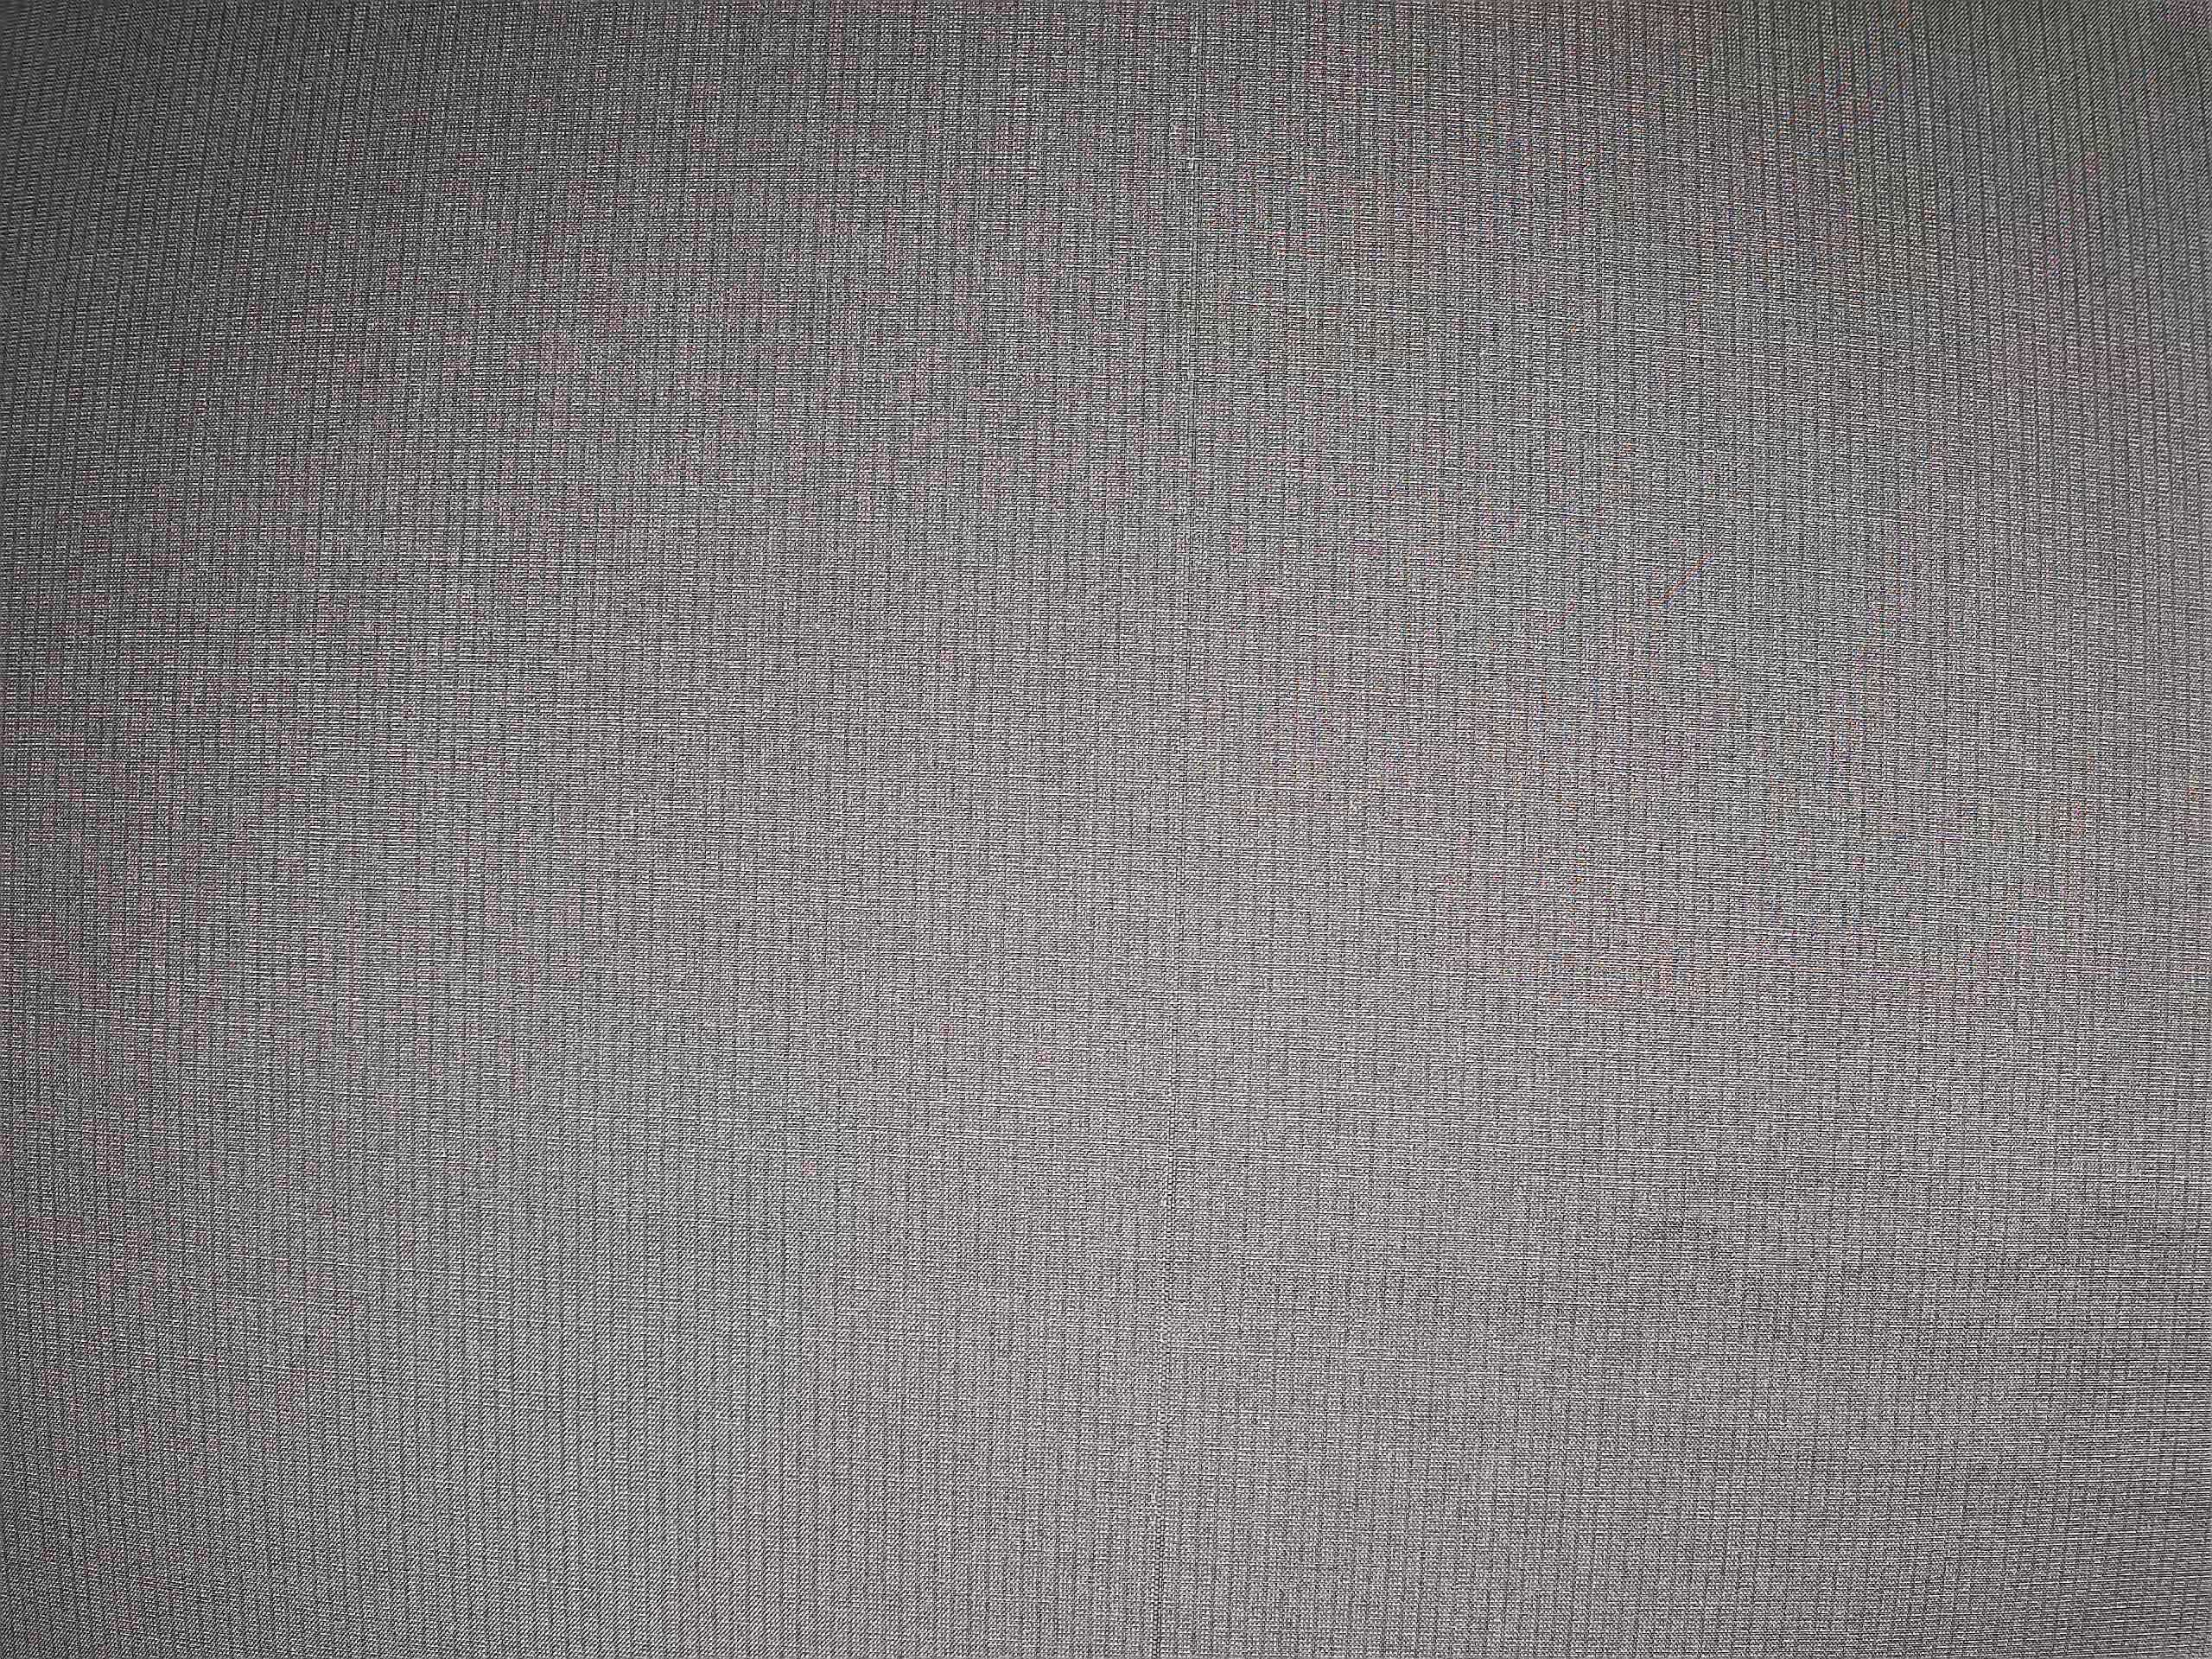lacking-warp: (1148, 12, 1209, 1654)
